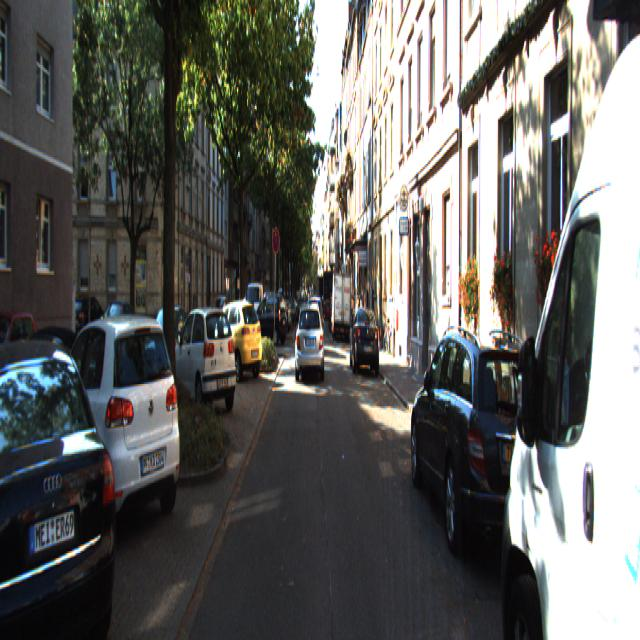Car: (412, 320, 568, 596), (0, 330, 130, 638), (46, 309, 186, 558), (164, 308, 239, 421), (206, 299, 265, 386), (0, 310, 45, 407), (142, 306, 189, 382), (91, 302, 140, 365), (295, 302, 325, 381), (349, 306, 381, 378), (249, 293, 288, 347), (331, 272, 351, 341), (305, 298, 325, 356)
